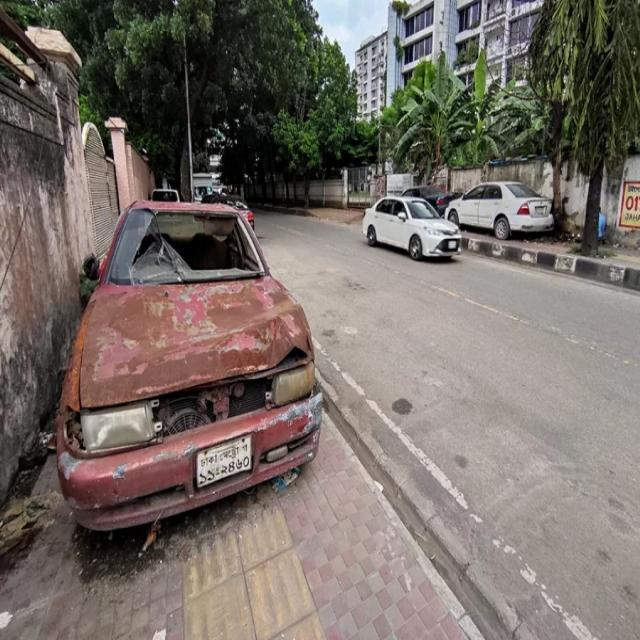car: (85, 171, 323, 537), (362, 174, 458, 274), (453, 155, 555, 245)
